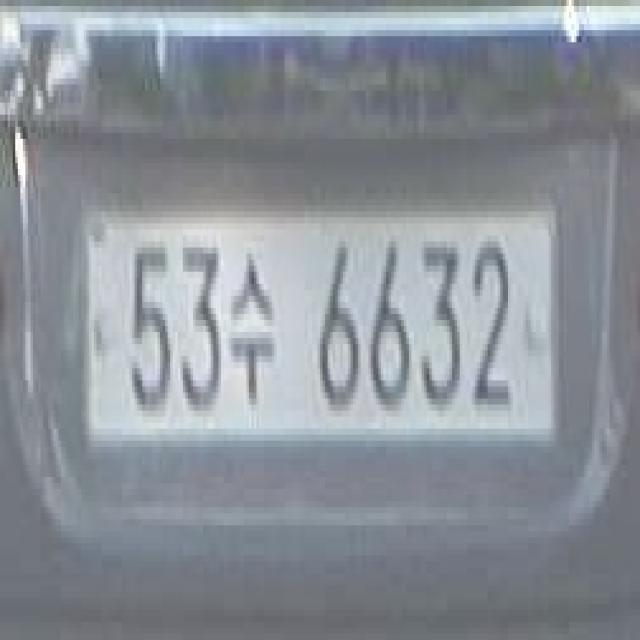2: (472, 235, 516, 422)
3: (411, 230, 465, 422), (175, 199, 216, 411)
5: (124, 218, 173, 410)
6: (315, 230, 366, 410), (366, 223, 409, 422)
license_plate: (81, 181, 566, 447)
su: (218, 230, 280, 410)
